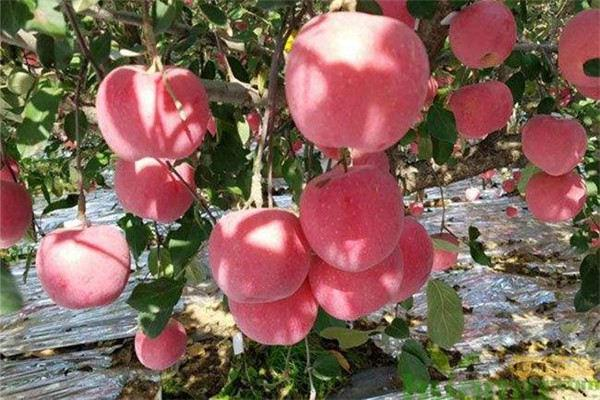apple: (287, 11, 429, 153), (97, 63, 211, 160), (300, 168, 404, 270), (209, 207, 314, 302), (35, 224, 131, 311), (114, 158, 196, 222), (450, 3, 518, 68), (448, 81, 513, 136), (560, 6, 600, 90), (134, 319, 189, 369)
